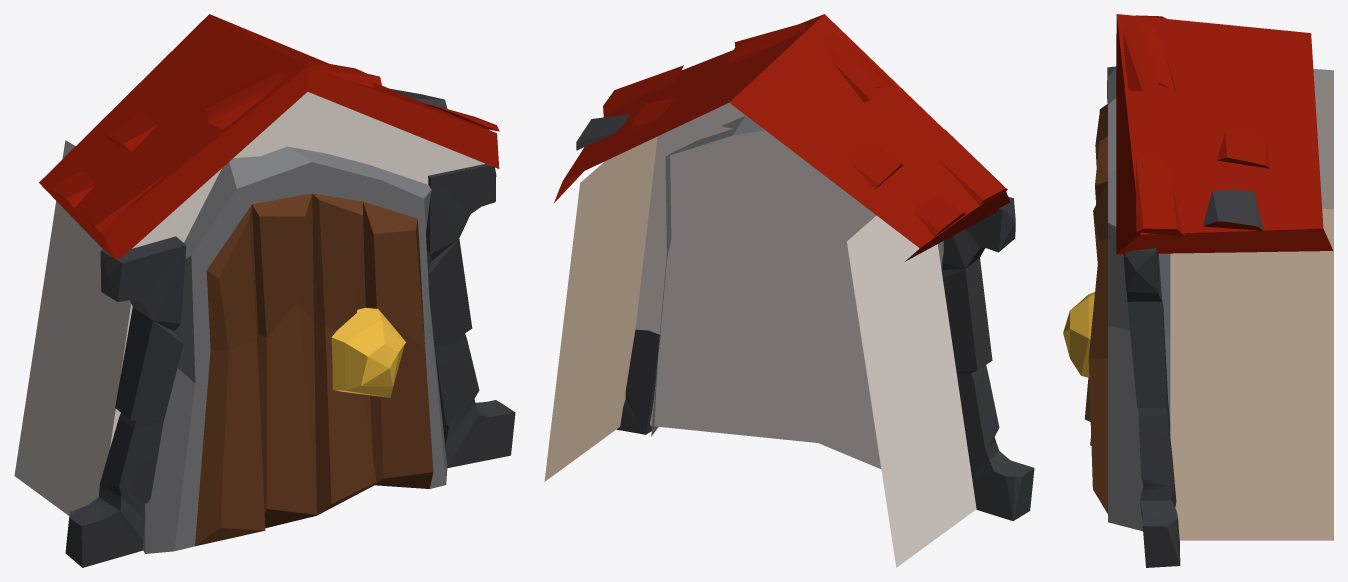
The model's file is SM_L_Popup_Door.fbx.
The picture shows the model from 3 angles, left to right: view 1: azimuth 30°, elevation 25°; view 2: azimuth 150°, elevation 25°; view 3: azimuth 270°, elevation 25°; orthographic projection. The views are drawn at different scales.
Visible parts, largest first — view 1: SM_Tile_door; view 2: SM_Tile_door; view 3: SM_Tile_door.
Part boxes in pixels (x1,y1,x2,y2): SM_Tile_door: (14,14,515,567); SM_Tile_door: (544,14,1034,567); SM_Tile_door: (1063,14,1333,567).
Size of the model in its own units: 152 by 149 by 81.4.
